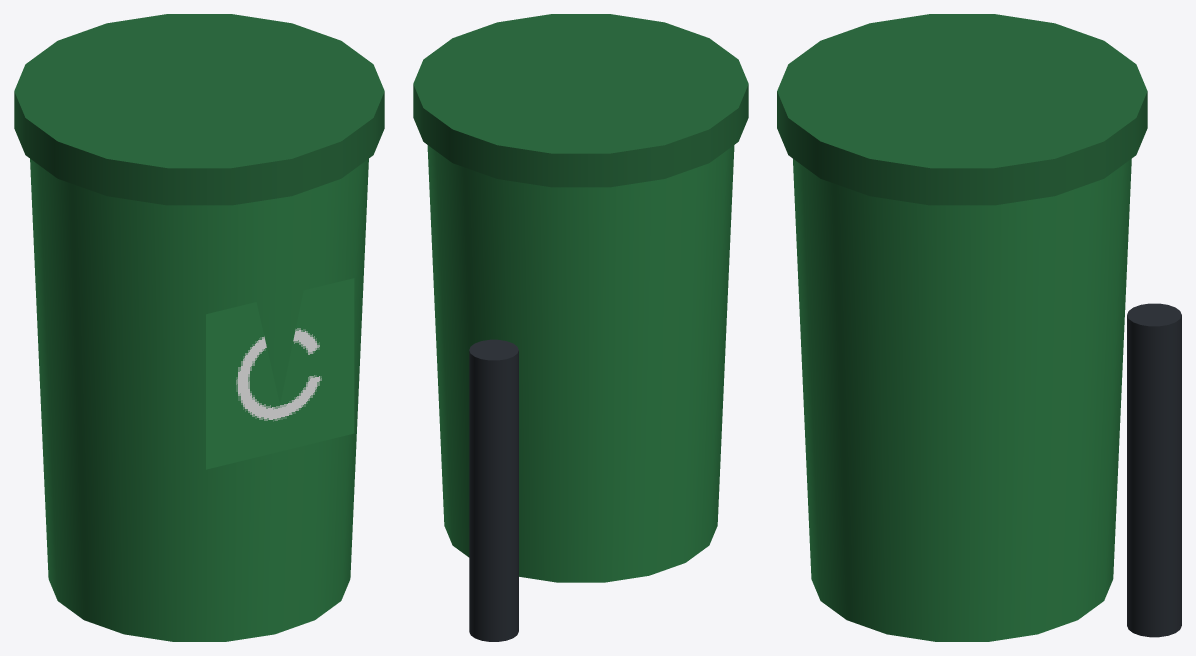
The model's file is cop-kutusu.glb.
The picture shows the model from 3 angles, left to right: view 1: azimuth 30°, elevation 25°; view 2: azimuth 150°, elevation 25°; view 3: azimuth 270°, elevation 25°; orthographic projection. The views are drawn at different scales.
Visible parts, largest first — view 1: cop-kutusu; view 2: cop-kutusu; view 3: cop-kutusu.
Part boxes in pixels (box(x1,y1,x2,y2)): cop-kutusu: box(14, 14, 384, 641); cop-kutusu: box(413, 14, 748, 641); cop-kutusu: box(777, 14, 1181, 641).
Size of the model in its own units: 0.5318 by 0.86 by 0.59.
Materials: 4 (1 with a texture image).
